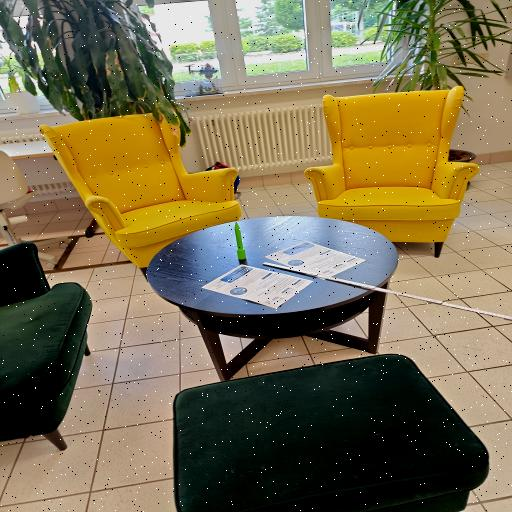Probe-Detection: (234, 221, 246, 260)
